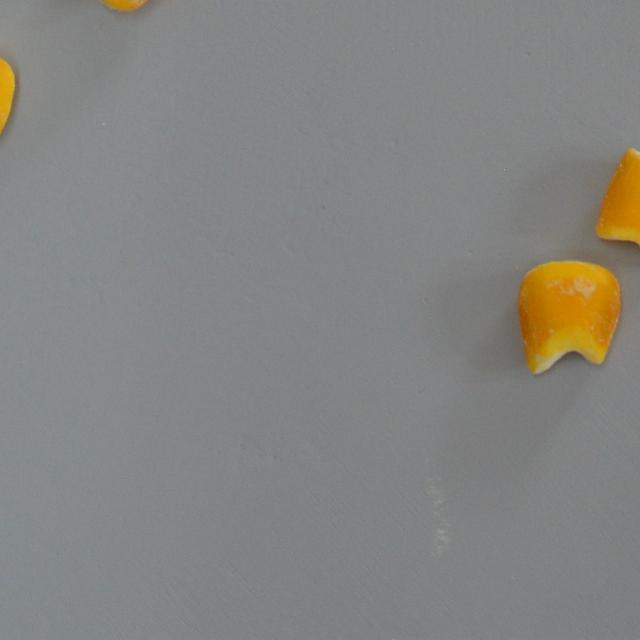no_canjicado: (594, 140, 640, 270)
pelicula: (515, 259, 624, 376), (68, 0, 198, 18), (0, 44, 20, 152)
